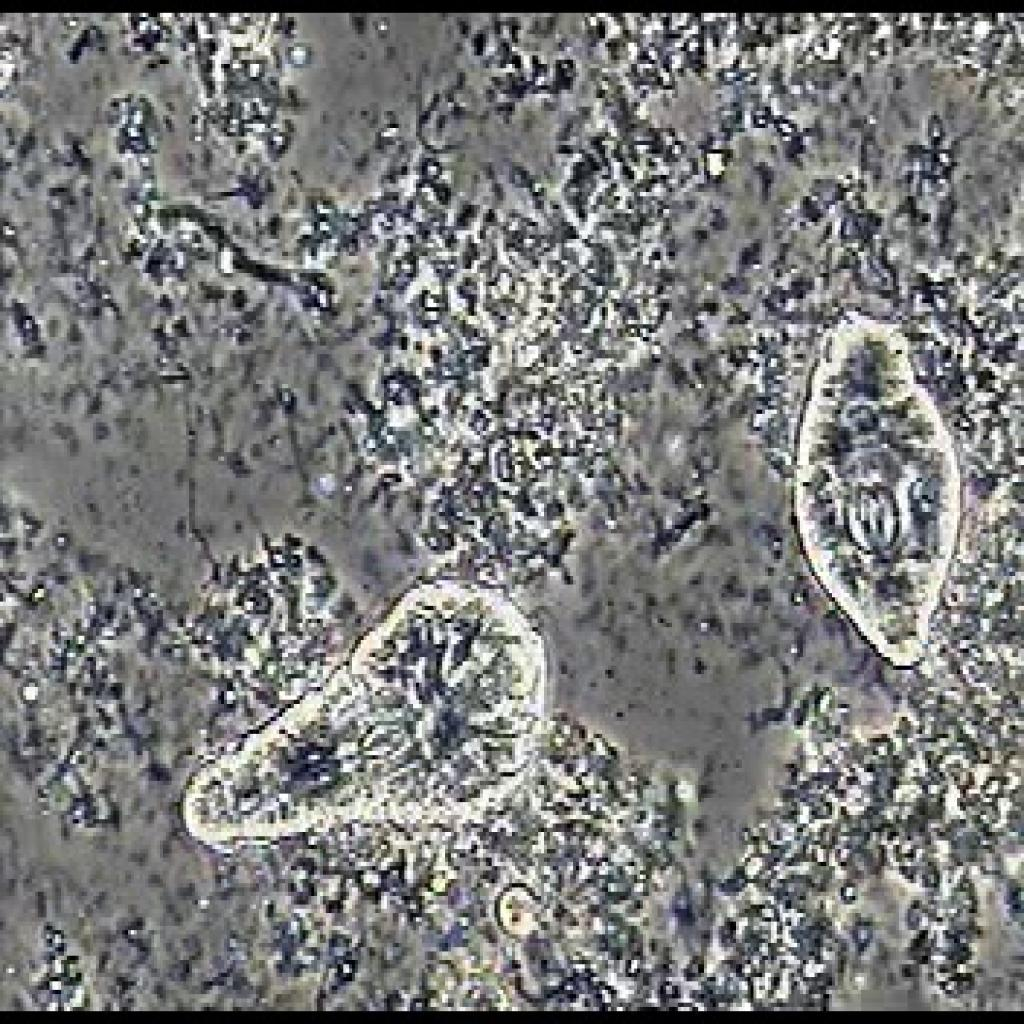Rotatoria: (185, 578, 560, 860), (791, 299, 966, 670)
